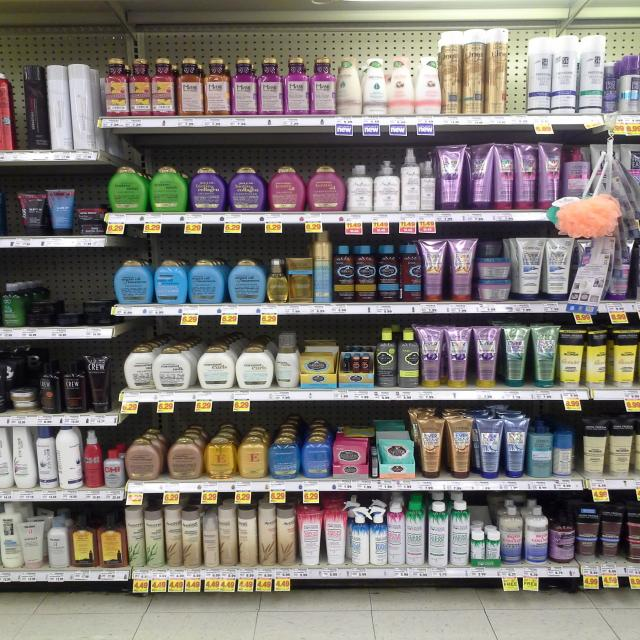unorganised: (577, 497, 625, 564), (468, 142, 495, 208), (56, 427, 83, 491), (123, 349, 154, 390), (603, 63, 619, 115)
